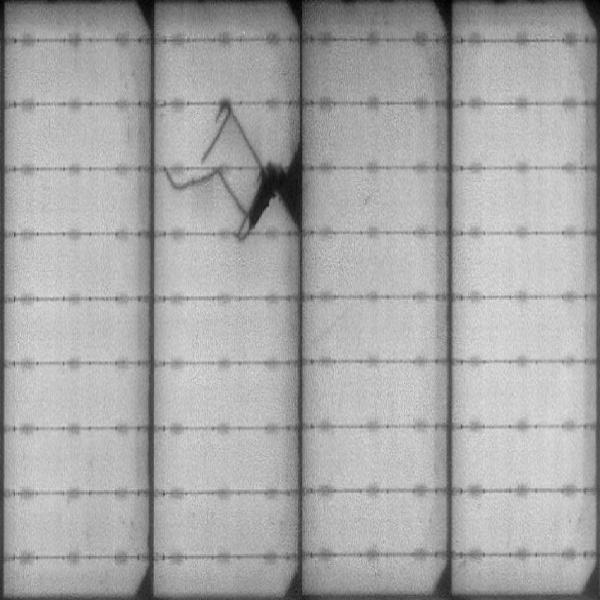broken: (163, 104, 301, 237)
